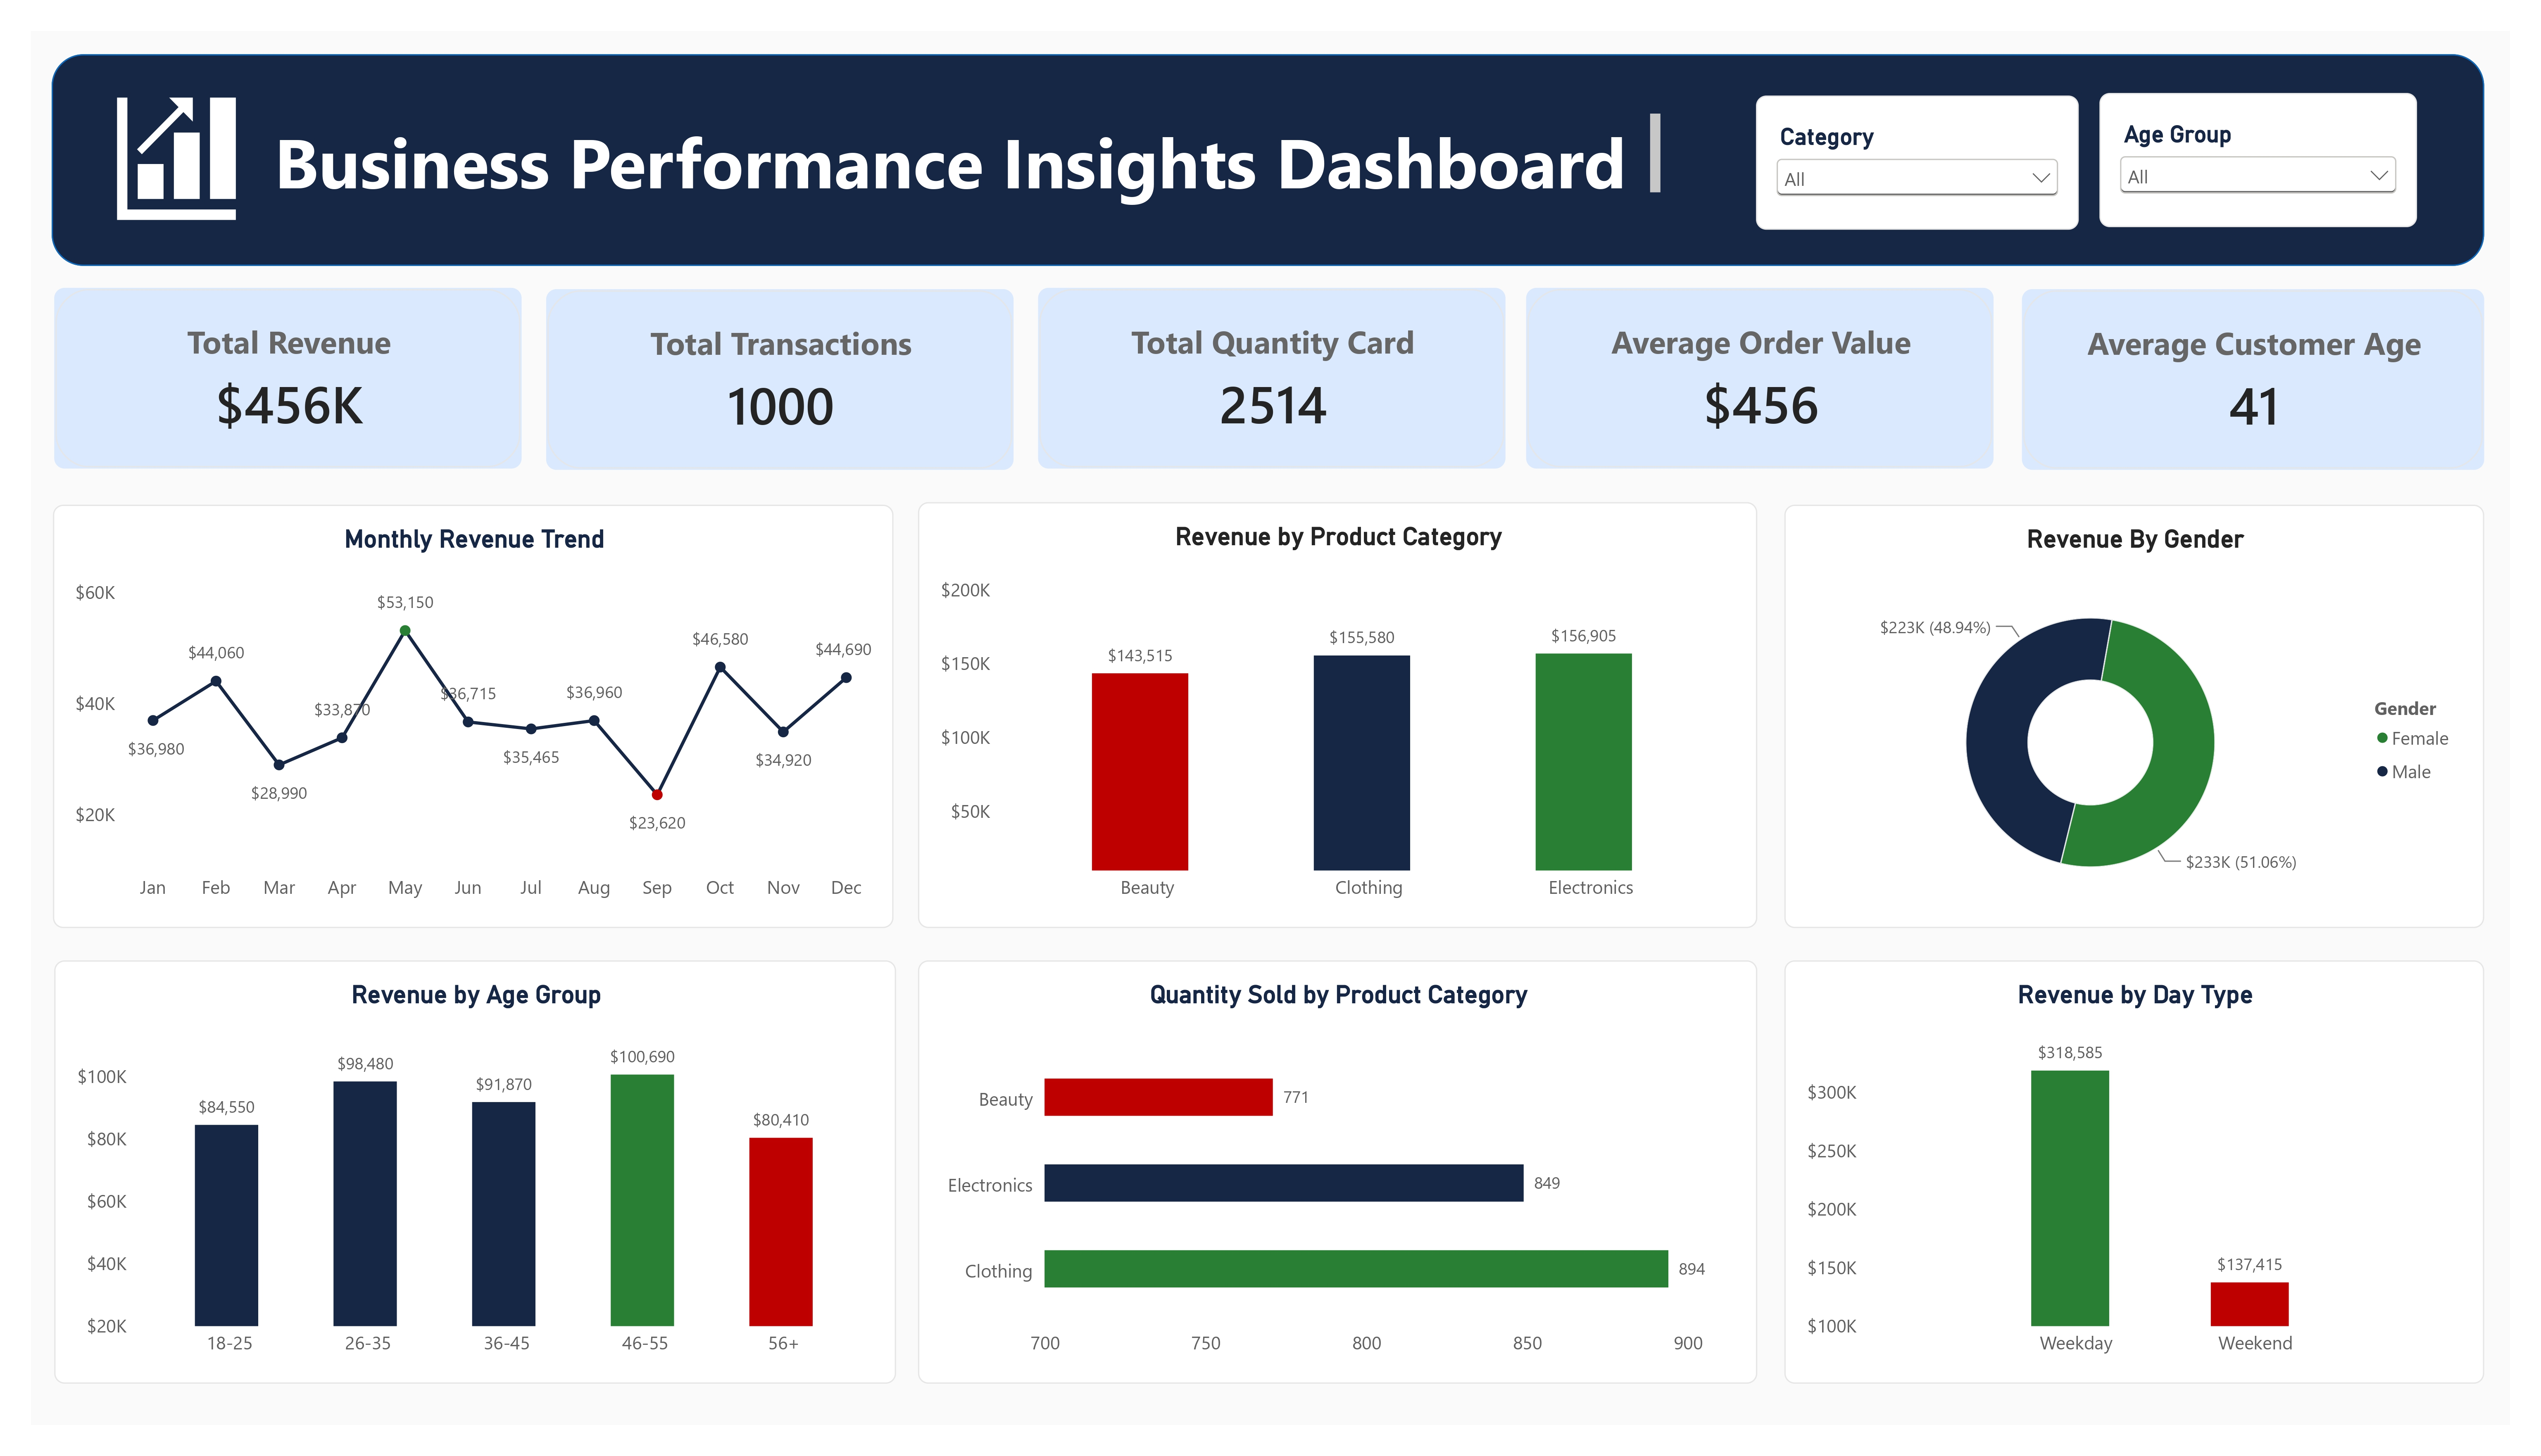

The dashboard page shown, as its layout file describes it:
{"tool":"powerbi","page":{"name":"Page 1","canvas":[1920,1080],"ordinal":0},"visuals":[{"type":"shape","box":[16,18,1884,164],"z":0},{"type":"cardVisual","title":"Total Revenue","fields":{"Data":["cleaned.Average Customer Age"]},"box":[1542,200,358,140],"z":1000},{"type":"cardVisual","title":"Total Revenue","fields":{"Data":["cleaned.Total Revenue"]},"box":[17.6,199.2,362,140],"z":2000},{"type":"cardVisual","title":"Total Revenue","fields":{"Data":["cleaned.Total Quantity Card"]},"box":[779.6,199.2,362,140],"z":3000},{"type":"cardVisual","title":"Total Revenue","fields":{"Data":["cleaned.Average Order Value"]},"box":[1157.6,199.2,362,140],"z":4000},{"type":"cardVisual","title":"Total Revenue","fields":{"Data":["cleaned.Total Transactions"]},"box":[398.9,199.6,362,140],"z":5000},{"type":"image","box":[18,34,188,130],"z":6000},{"type":"lineChart","title":"Monthly Revenue Trend","fields":{"Category":["cleaned.month2"],"Y":["cleaned.Total Revenue"]},"box":[16.7,366.7,651.7,328.3],"z":7000},{"type":"clusteredColumnChart","title":"Revenue by Product Category","fields":{"Category":["cleaned.product_category"],"Y":["cleaned.Total Revenue"]},"box":[686.7,365,650,330],"z":8000},{"type":"donutChart","title":"Revenue By Gender","fields":{"Category":["cleaned.gender"],"Y":["cleaned.Total Revenue"]},"box":[1358.3,366.7,541.7,328.3],"z":9000},{"type":"clusteredColumnChart","title":"Revenue by Age Group","fields":{"Category":["cleaned.age_group"],"Y":["cleaned.Total Revenue"]},"box":[18.3,720,651.7,328.3],"z":10000},{"type":"barChart","title":"Quantity Sold by Product Category","fields":{"Category":["cleaned.product_category"],"Y":["cleaned.Total Quantity"]},"box":[687,720,650,328],"z":11000},{"type":"columnChart","title":"Revenue by Day Type","fields":{"Category":["cleaned.day_type"],"Y":["cleaned.Total Revenue"]},"box":[1358,720,542,328],"z":12000},{"type":"slicer","fields":{"Values":["cleaned.product_category"]},"box":[1336,50,250,104],"z":13000},{"type":"slicer","fields":{"Values":["cleaned.age_group"]},"box":[1602,48,246,104],"z":14000},{"type":"textbox","box":[170,64,1092,74],"z":15000}]}

Visuals, with their boxes on the page's 1920x1080 design canvas (x1, y1, x2, y2). These are canvas units, not pixel positions in the 2541x1456 screenshot, which may show the page scaled, cropped or inside an application window:
shape: (x1=16, y1=18, x2=1900, y2=182)
"Total Revenue" cardVisual: (x1=1542, y1=200, x2=1900, y2=340)
"Total Revenue" cardVisual: (x1=18, y1=199, x2=380, y2=339)
"Total Revenue" cardVisual: (x1=780, y1=199, x2=1142, y2=339)
"Total Revenue" cardVisual: (x1=1158, y1=199, x2=1520, y2=339)
"Total Revenue" cardVisual: (x1=399, y1=200, x2=761, y2=340)
image: (x1=18, y1=34, x2=206, y2=164)
"Monthly Revenue Trend" lineChart: (x1=17, y1=367, x2=668, y2=695)
"Revenue by Product Category" clusteredColumnChart: (x1=687, y1=365, x2=1337, y2=695)
"Revenue By Gender" donutChart: (x1=1358, y1=367, x2=1900, y2=695)
"Revenue by Age Group" clusteredColumnChart: (x1=18, y1=720, x2=670, y2=1048)
"Quantity Sold by Product Category" barChart: (x1=687, y1=720, x2=1337, y2=1048)
"Revenue by Day Type" columnChart: (x1=1358, y1=720, x2=1900, y2=1048)
slicer - cleaned.product_category: (x1=1336, y1=50, x2=1586, y2=154)
slicer - cleaned.age_group: (x1=1602, y1=48, x2=1848, y2=152)
textbox: (x1=170, y1=64, x2=1262, y2=138)
